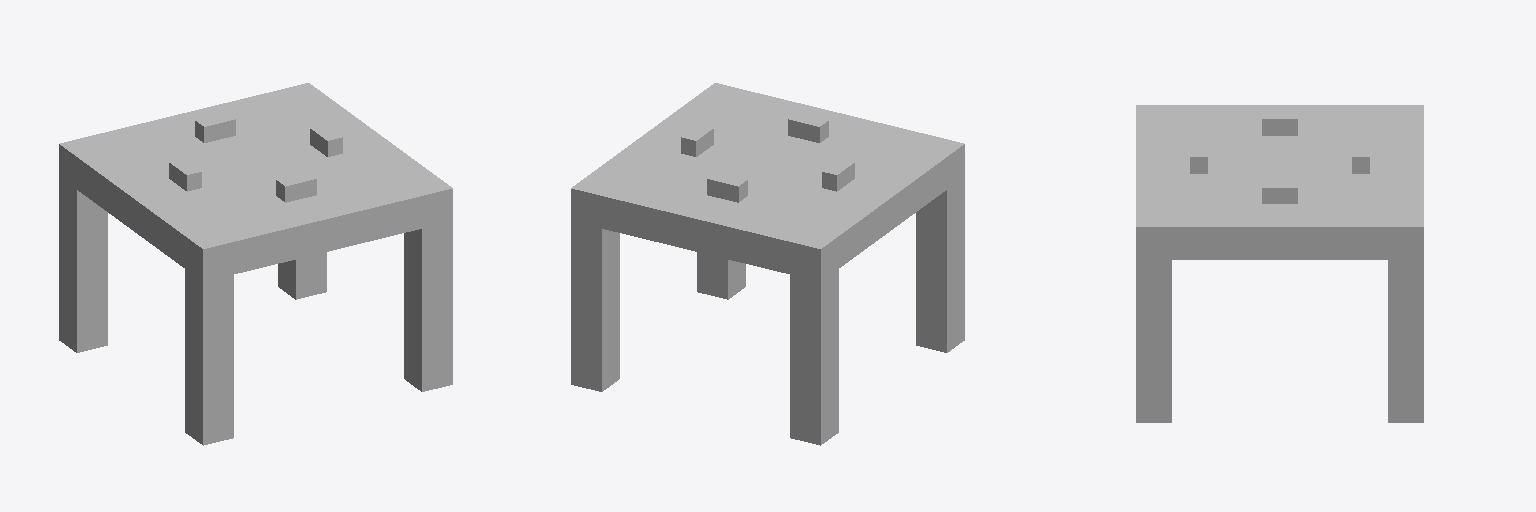
File: ward_chiping_table.obj
The picture shows the model from 3 angles: view 1: azimuth 30°, elevation 25°; view 2: azimuth 150°, elevation 25°; view 3: azimuth 270°, elevation 25°; orthographic projection.
Parts seen in each view (by area): view 1: Cube; view 2: Cube; view 3: Cube.
Part boxes in pixels (bbox=[...]): Cube: bbox=[59, 83, 452, 445]; Cube: bbox=[571, 83, 964, 445]; Cube: bbox=[1136, 105, 1423, 422].
Bounding box in the file's own units: 1 × 0.8125 × 1.